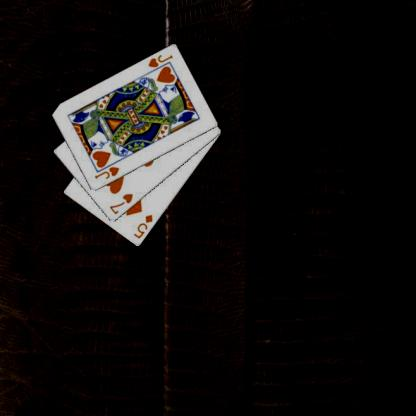5D: (131, 212, 154, 240)
7H: (106, 191, 134, 216)
JH: (145, 52, 174, 69), (92, 164, 120, 180)
